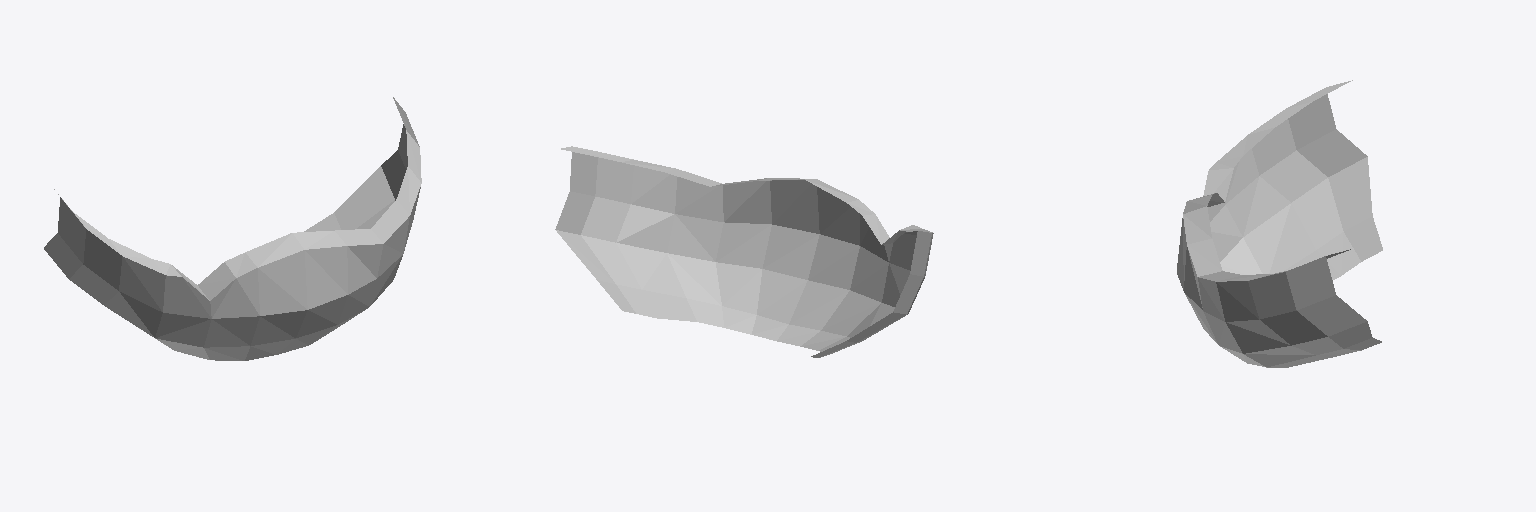
Rendered from character_skeleton_archer_mask.obj.
3 views of the same model, side by side, from view 1: azimuth 30°, elevation 25°; view 2: azimuth 150°, elevation 25°; view 3: azimuth 270°, elevation 25° (orthographic).
Parts seen in each view (by area): view 1: character_skeleton_archer_mask_Cube.7657; view 2: character_skeleton_archer_mask_Cube.7657; view 3: character_skeleton_archer_mask_Cube.7657.
Part boxes in pixels (bbox=[...]): character_skeleton_archer_mask_Cube.7657: bbox=[44, 97, 421, 360]; character_skeleton_archer_mask_Cube.7657: bbox=[555, 146, 933, 357]; character_skeleton_archer_mask_Cube.7657: bbox=[1177, 80, 1382, 367].
Bounding box in the file's own units: 0.8982 × 0.4556 × 0.4662.